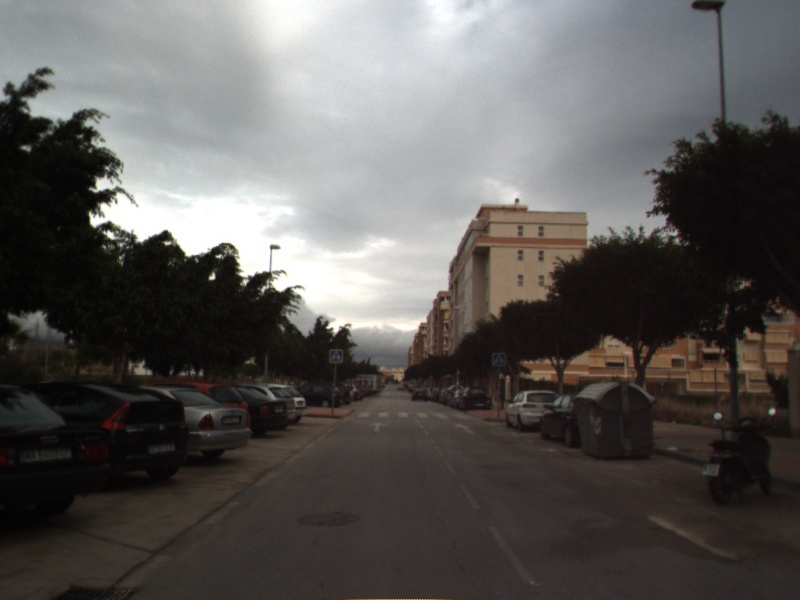STRAIGHT: (452, 421, 477, 436), (367, 420, 390, 434)
